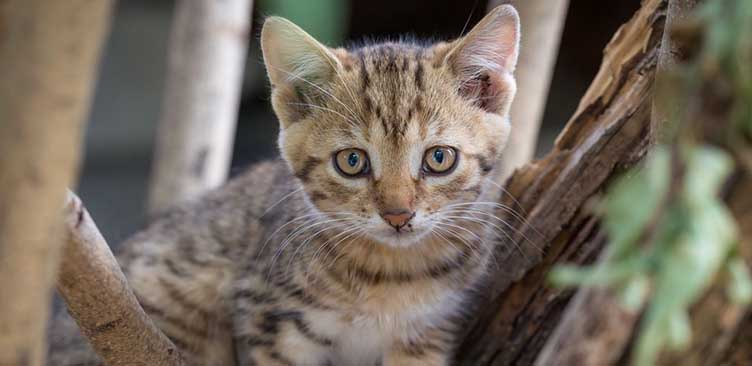cat: (125, 29, 554, 349)
